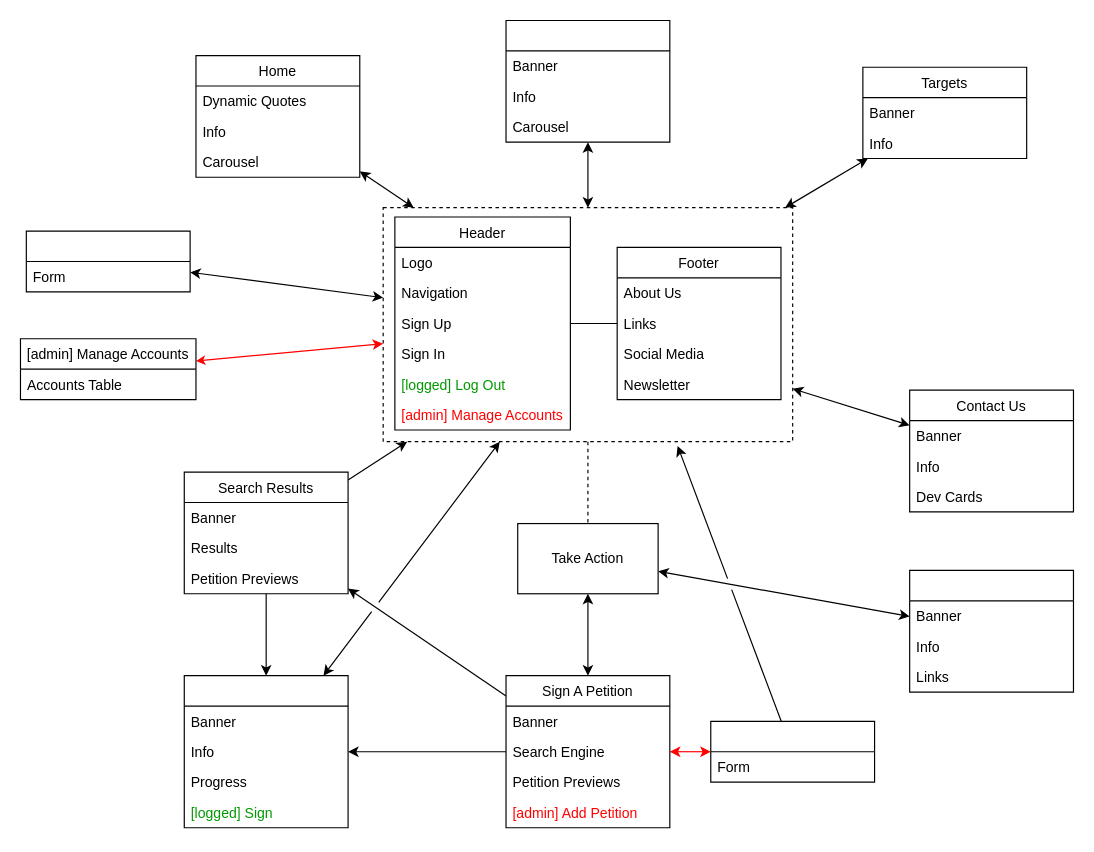
Some shapes in this 1094 by 852 pixel diagram are drawn without their labels. The shapes that lost their labels are listed below. From the top down, each one's box as (x1, y1, x2, y2) in pixels, then its label:
(505, 19, 670, 142): Threats
(25, 230, 190, 292): Sign In/Up
(909, 569, 1073, 692): What Can I Do
(183, 675, 348, 828): Petition
(710, 720, 875, 782): [admin] Petition Form
